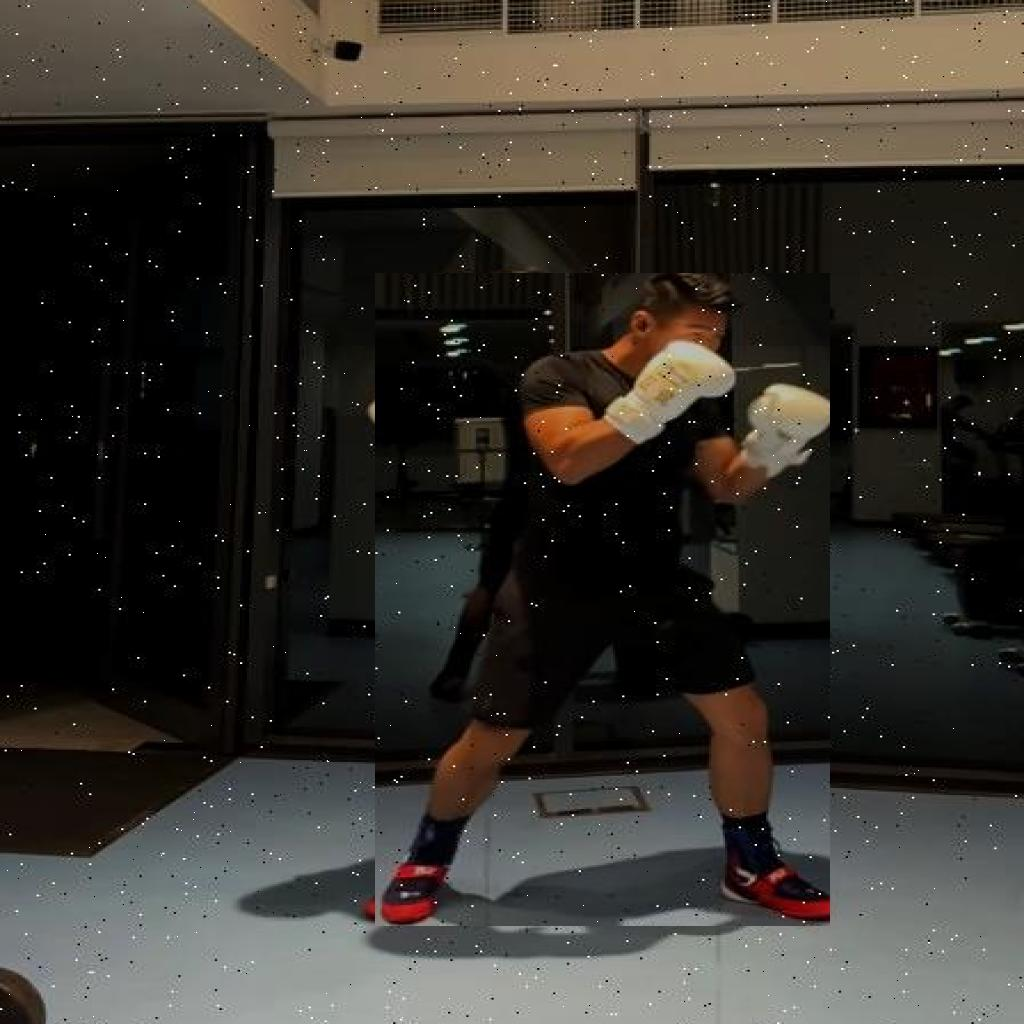no punch: (375, 273, 830, 926)
